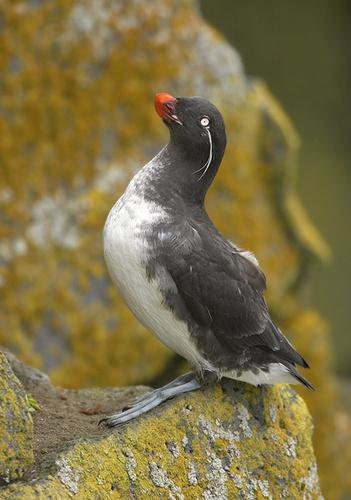007.Parakeet_Auklet: (84, 88, 315, 428)
